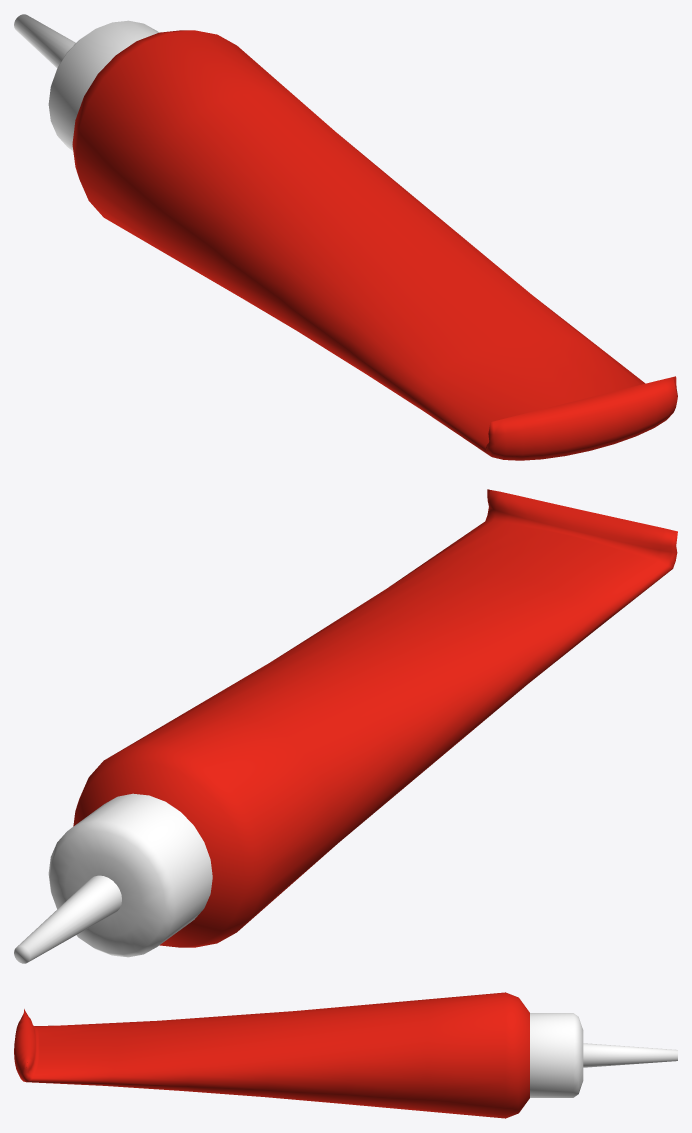
The model's file is IcingTube.dae.
The picture shows the model from 3 angles, top to bottom: view 1: azimuth 30°, elevation 25°; view 2: azimuth 150°, elevation 25°; view 3: azimuth 270°, elevation 25°; orthographic projection. The views are drawn at different scales.
Parts seen in each view (by area): view 1: IcingTube; view 2: IcingTube; view 3: IcingTube.
Boxes of the visible parts, x1,y1,x2,y2 form: IcingTube: (14, 14, 677, 460); IcingTube: (14, 489, 677, 963); IcingTube: (14, 992, 677, 1118).
Size of the model in its own units: 2 by 10.49 by 2.
